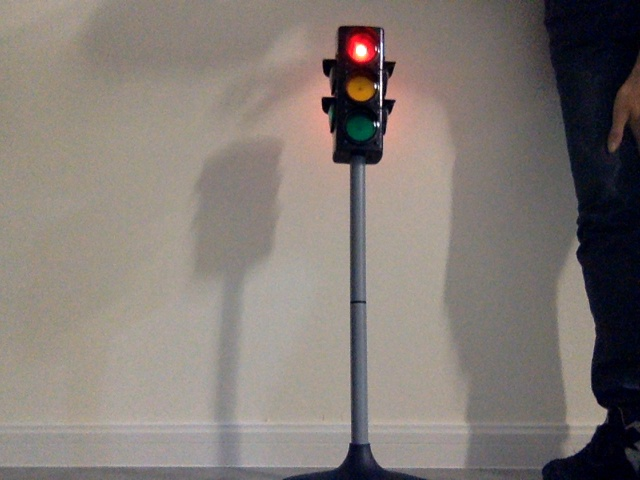red: (340, 31, 378, 145)
